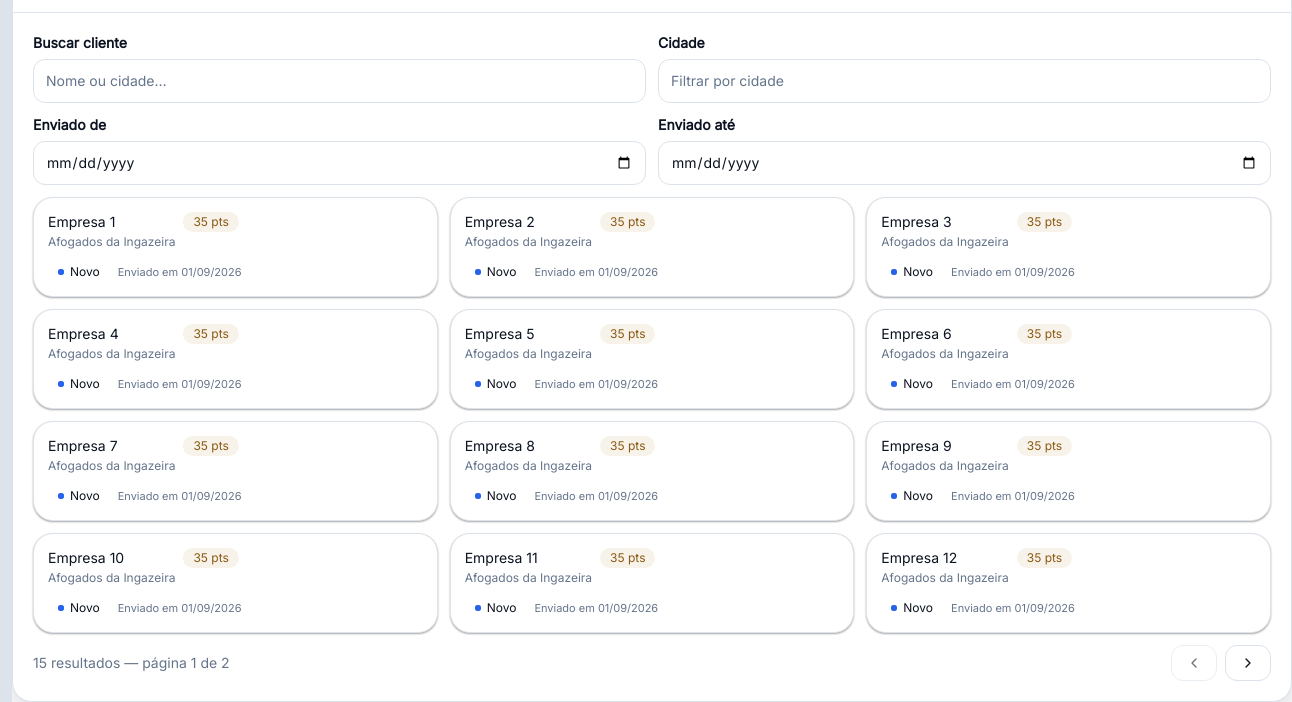
it: AgentsCrmPage › paginates the picker so older CRM leads stay reachable after a new send
(page scrolled)
Expected: the button "Empresa 1" is shown, left=33, top=197, right=438, bottom=297
Expected: the button "Empresa 13" is not shown
Click the button named "Próxima página". click: (1248, 663)
box: left=1225, top=645, right=1271, bottom=681
(page scrolled)
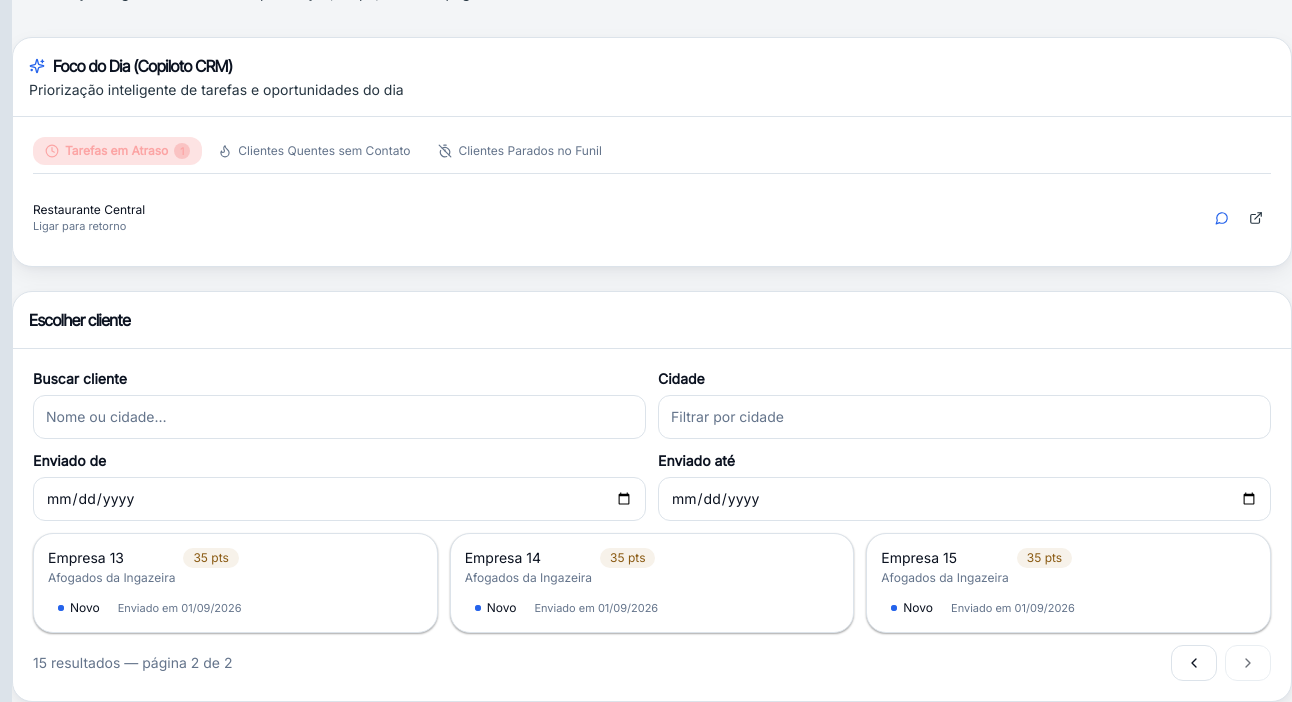
Expected: the button "Empresa 13" is shown, left=33, top=533, right=438, bottom=633
